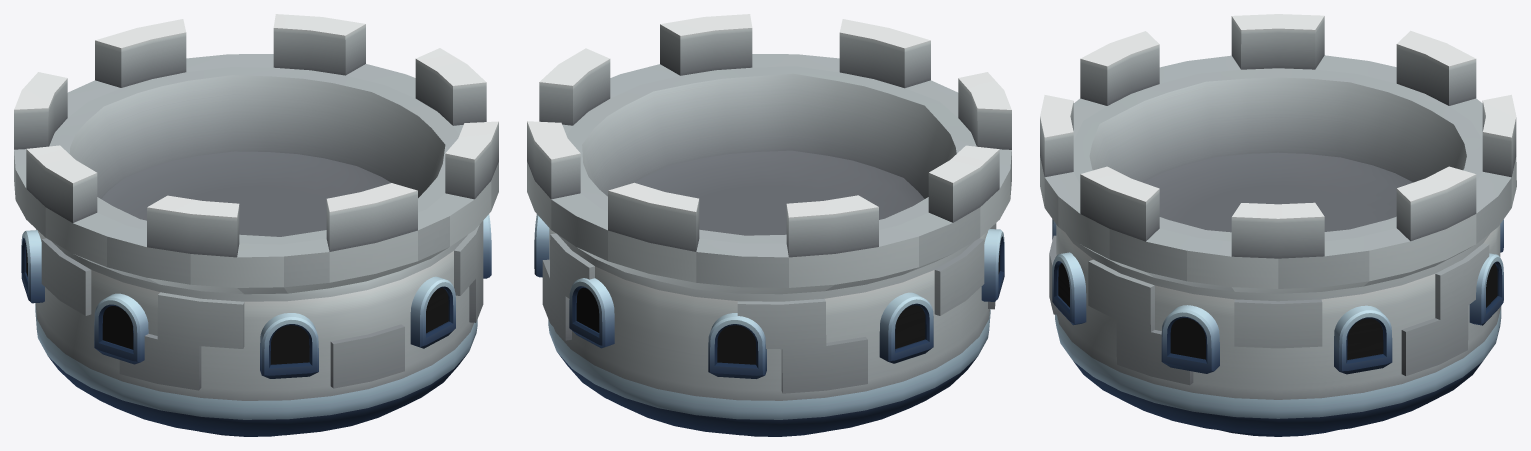
The model's file is TowerCap.fbx.
The picture shows the model from 3 angles, left to right: view 1: azimuth 30°, elevation 25°; view 2: azimuth 150°, elevation 25°; view 3: azimuth 270°, elevation 25°; orthographic projection.
Parts seen in each view (by area): view 1: TowerCap; view 2: TowerCap; view 3: TowerCap.
Boxes of the visible parts, box(x1,y1,x2,y2) form: TowerCap: box(14, 14, 498, 436); TowerCap: box(527, 14, 1011, 436); TowerCap: box(1040, 14, 1516, 436).
Bounding box in the file's own units: 505 × 308 × 496.
